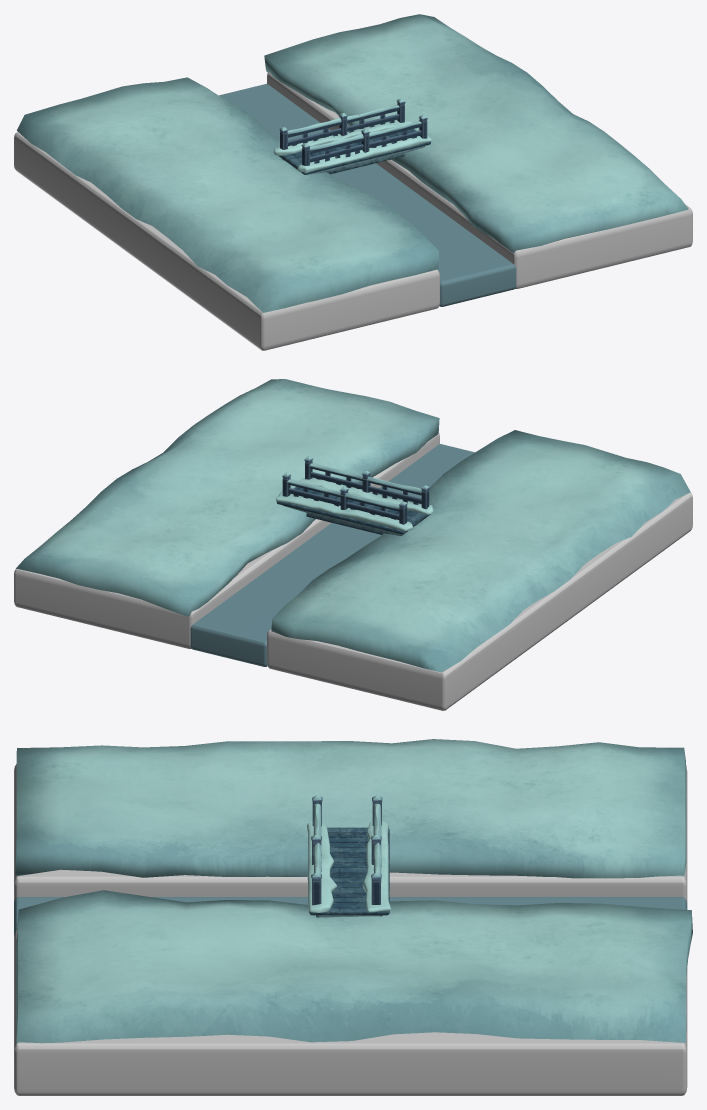
The model's file is SM_FloorMiddleRiver.fbx.
3 views of the same model, one above another, from view 1: azimuth 30°, elevation 25°; view 2: azimuth 150°, elevation 25°; view 3: azimuth 270°, elevation 25° (orthographic). The views are drawn at different scales.
Visible parts, largest first — view 1: SM_Snow, SM_Snow1, SM_Base, SM_River, SM_Base3, SM_BridgeSnow, SM_Bridge, SM_Bridge22 (×2); view 2: SM_Snow, SM_Snow1, SM_Base, SM_River, SM_Base3, SM_BridgeSnow, SM_Bridge, SM_Bridge22 (×2), SM_BridgeSnow22, SM_BridgeSnow5; view 3: SM_Snow1, SM_Snow, SM_Base3, SM_Base, SM_Bridge, SM_River, SM_BridgeSnow.
Part boxes in pixels (left/top/right/bottom): SM_Snow: left=17, top=77, right=438, bottom=312; SM_Snow1: left=264, top=14, right=688, bottom=252; SM_Base: left=14, top=132, right=439, bottom=350; SM_River: left=219, top=83, right=516, bottom=306; SM_Base3: left=267, top=71, right=692, bottom=288; SM_BridgeSnow: left=273, top=119, right=431, bottom=172; SM_Bridge: left=278, top=129, right=430, bottom=174; SM_Bridge22 (×2): left=288, top=114, right=421, bottom=162; SM_Snow: left=271, top=430, right=690, bottom=672; SM_Snow1: left=16, top=379, right=439, bottom=616; SM_Base: left=267, top=492, right=692, bottom=710; SM_River: left=190, top=444, right=474, bottom=666; SM_Base3: left=14, top=432, right=439, bottom=648; SM_BridgeSnow: left=276, top=477, right=433, bottom=531; SM_Bridge: left=276, top=486, right=430, bottom=535; SM_Bridge22 (×2): left=288, top=471, right=421, bottom=519; SM_BridgeSnow22: left=287, top=479, right=399, bottom=509; SM_BridgeSnow5: left=309, top=463, right=421, bottom=493; SM_Snow1: left=16, top=890, right=692, bottom=1043; SM_Snow: left=15, top=739, right=686, bottom=878; SM_Base3: left=14, top=930, right=687, bottom=1095; SM_Base: left=14, top=764, right=687, bottom=902; SM_Bridge: left=309, top=827, right=389, bottom=917; SM_River: left=14, top=897, right=687, bottom=936; SM_BridgeSnow: left=307, top=821, right=391, bottom=912.
Bounding box in the file's own units: 25.23 × 4.91 × 25.29.
